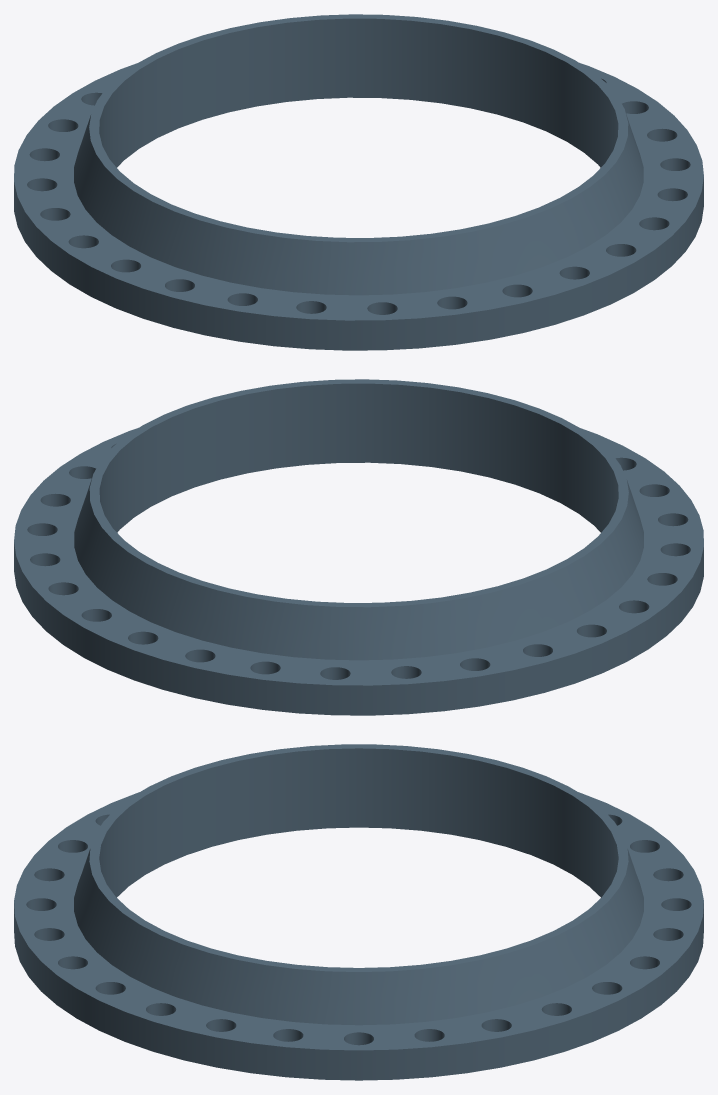
Rendered from flanec-vorotnikovyj-DN900-PN25.glb.
3 views of the same model, one above another, from view 1: azimuth 30°, elevation 25°; view 2: azimuth 150°, elevation 25°; view 3: azimuth 270°, elevation 25° (orthographic).
Visible parts, largest first — view 1: Open CASCADE STEP translator 7.9 113; view 2: Open CASCADE STEP translator 7.9 113; view 3: Open CASCADE STEP translator 7.9 113.
Part boxes in pixels (x1,y1,x2,y2): Open CASCADE STEP translator 7.9 113: (14,14,703,350); Open CASCADE STEP translator 7.9 113: (14,379,703,715); Open CASCADE STEP translator 7.9 113: (14,744,703,1080).
Bounding box in the file's own units: 1184 × 150 × 1185.
